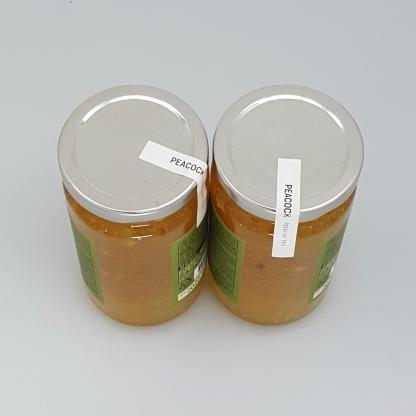------------420G: (207, 84, 364, 326), (57, 84, 210, 327)
